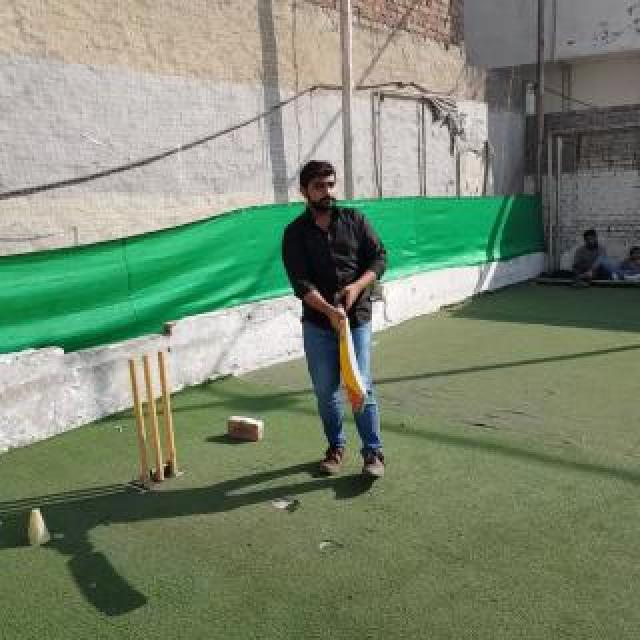bat: (336, 291, 366, 413)
